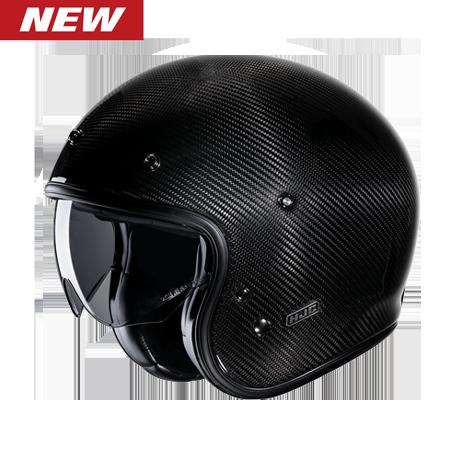Helmet: (43, 55, 420, 401)
